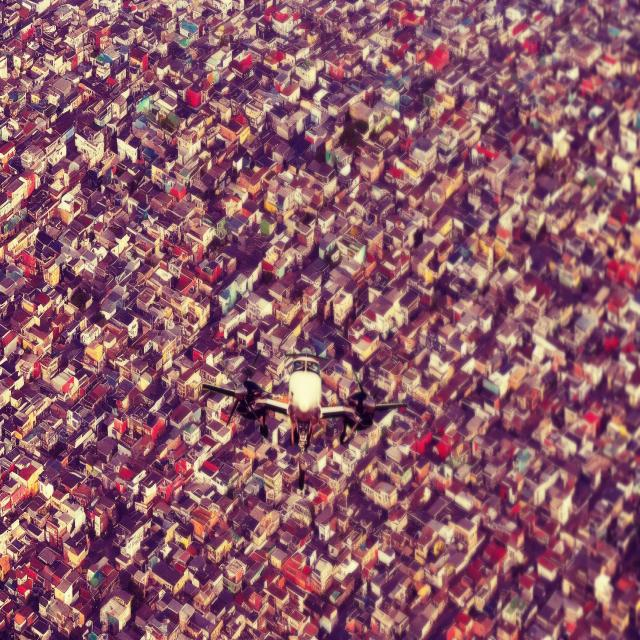airplane: (200, 350, 408, 490)
